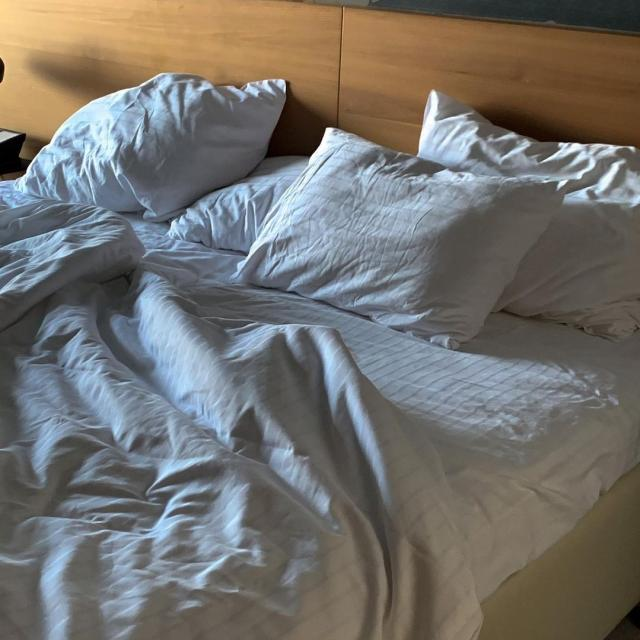bed: (0, 51, 632, 617)
